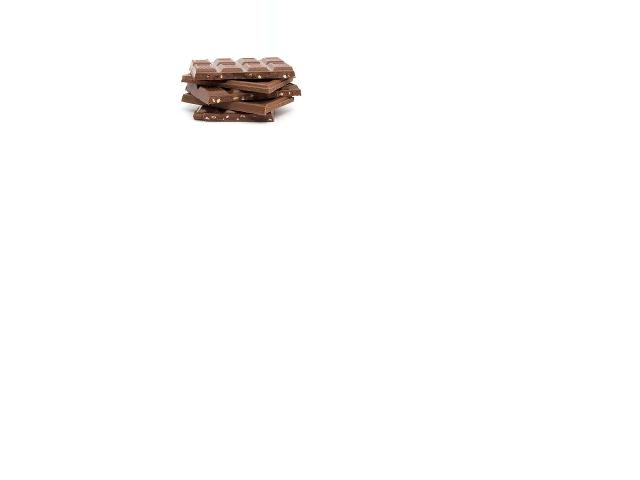chocolate: (183, 84, 293, 128)
